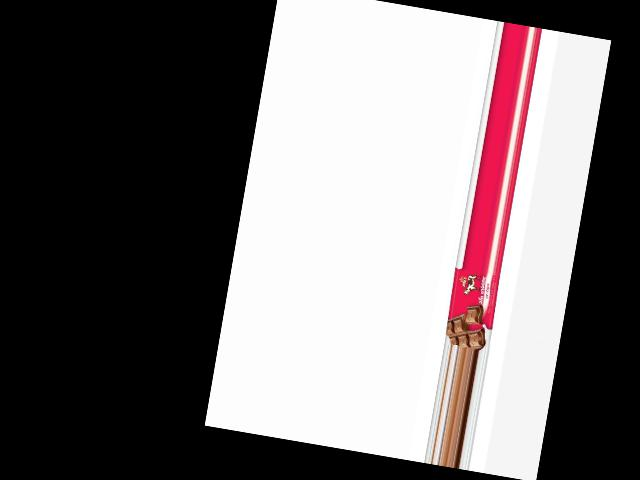chocolate: (443, 266, 501, 350)
